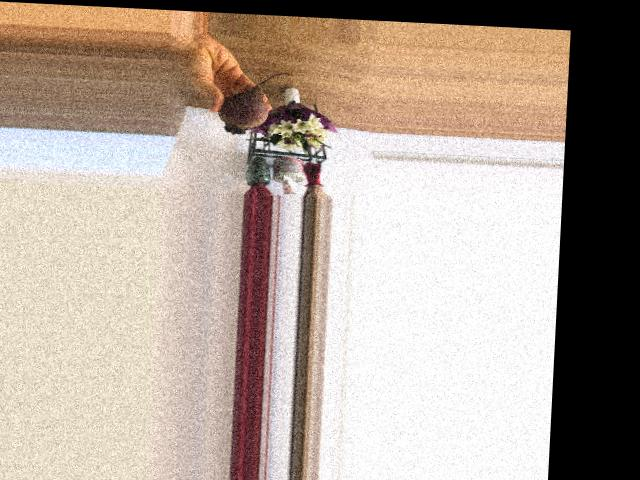beet: (217, 70, 294, 136)
